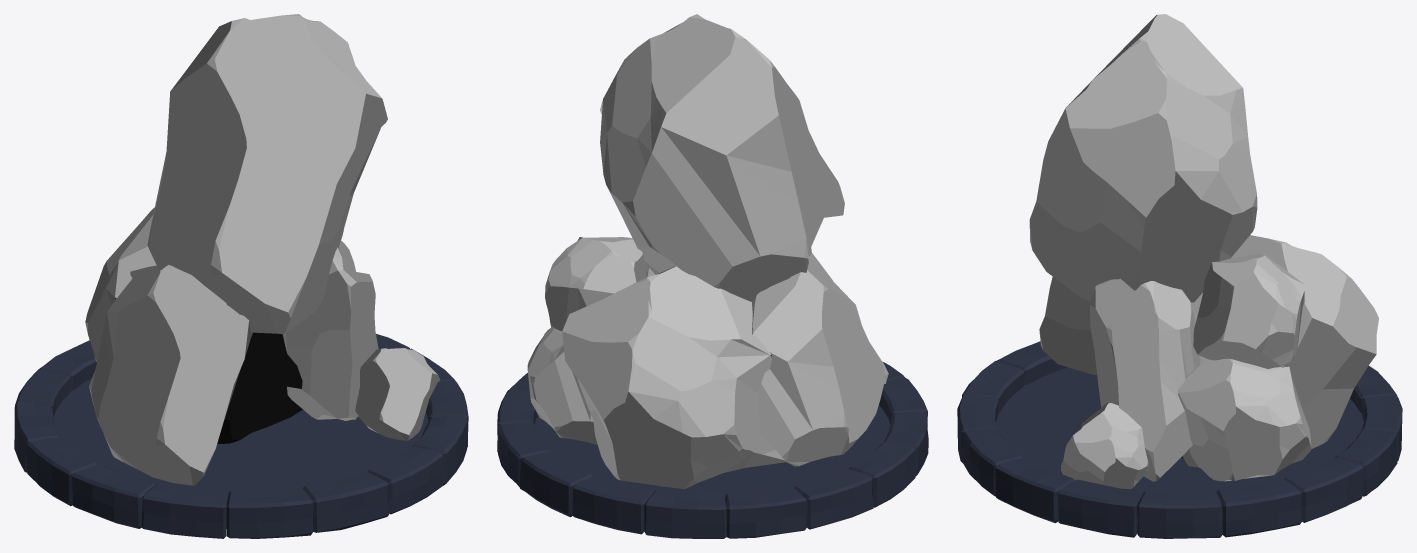
The model's file is VisualModel.fbx.
3 views of the same model, side by side, from view 1: azimuth 30°, elevation 25°; view 2: azimuth 150°, elevation 25°; view 3: azimuth 270°, elevation 25° (orthographic). The views are drawn at different scales.
Parts seen in each view (by area): view 1: Rock.001, Curb, Rock, CirclePlane, Rock.005, Rock.003, Rock.004; view 2: Rock.001, Rock.003, Curb, Rock, CirclePlane, Rock.006, Rock.002; view 3: Rock.001, Curb, Rock.005, Rock.003, Rock.002, CirclePlane, Rock.006, Rock.004, Rock.
Boxes of the visible parts, x1,y1,x2,y2 form: Rock.001: (147, 14, 387, 334); Curb: (14, 334, 468, 538); Rock: (89, 265, 252, 485); CirclePlane: (53, 378, 428, 492); Rock.005: (282, 240, 378, 420); Rock.003: (85, 207, 302, 443); Rock.004: (355, 348, 440, 440); Rock.001: (600, 14, 844, 301); Rock.003: (562, 266, 785, 489); Curb: (497, 362, 928, 538); Rock: (752, 253, 888, 466); CirclePlane: (534, 405, 890, 498); Rock.006: (545, 237, 646, 332); Rock.002: (527, 328, 597, 444); Rock.001: (1029, 14, 1257, 302); Curb: (957, 341, 1402, 538); Rock.005: (1090, 278, 1200, 481); Rock.003: (1181, 235, 1378, 467); Rock.002: (1178, 358, 1311, 481); CirclePlane: (996, 367, 1363, 492); Rock.006: (1193, 253, 1305, 368); Rock.004: (1061, 403, 1148, 489); Rock: (1039, 277, 1096, 374).
Bounding box in the file's own units: 385 × 409 × 385.
